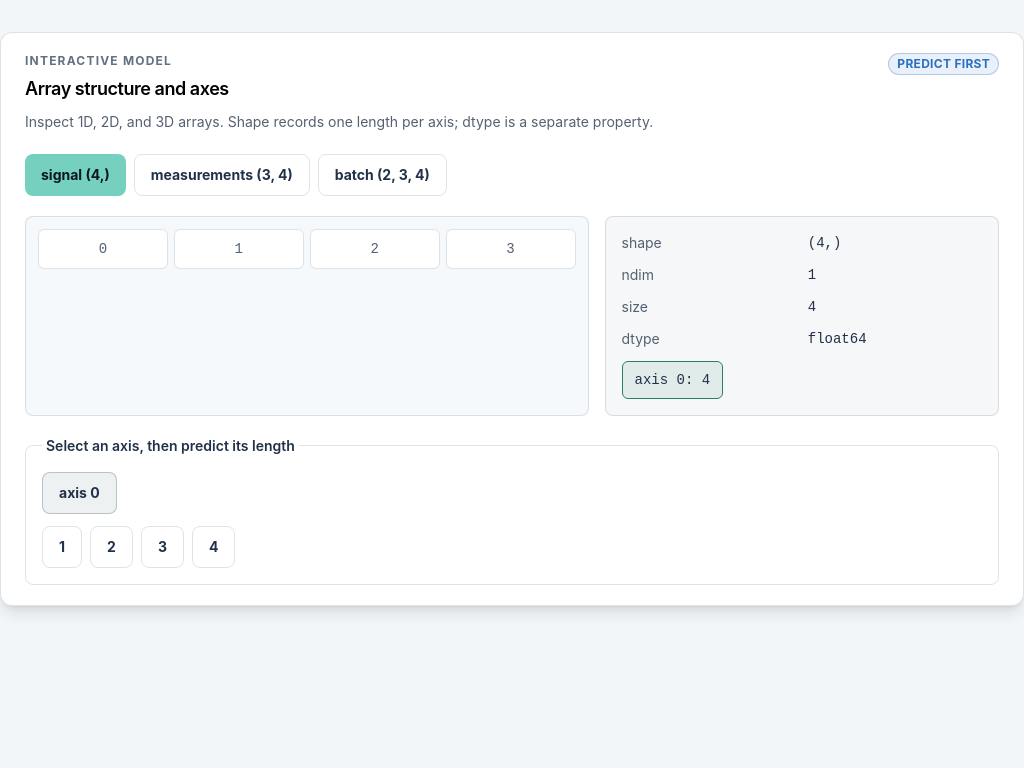
array interactives › connects a selected axis to its length
Click the button "batch (2, 3, 4)" at (382, 175), box [318, 154, 447, 196]
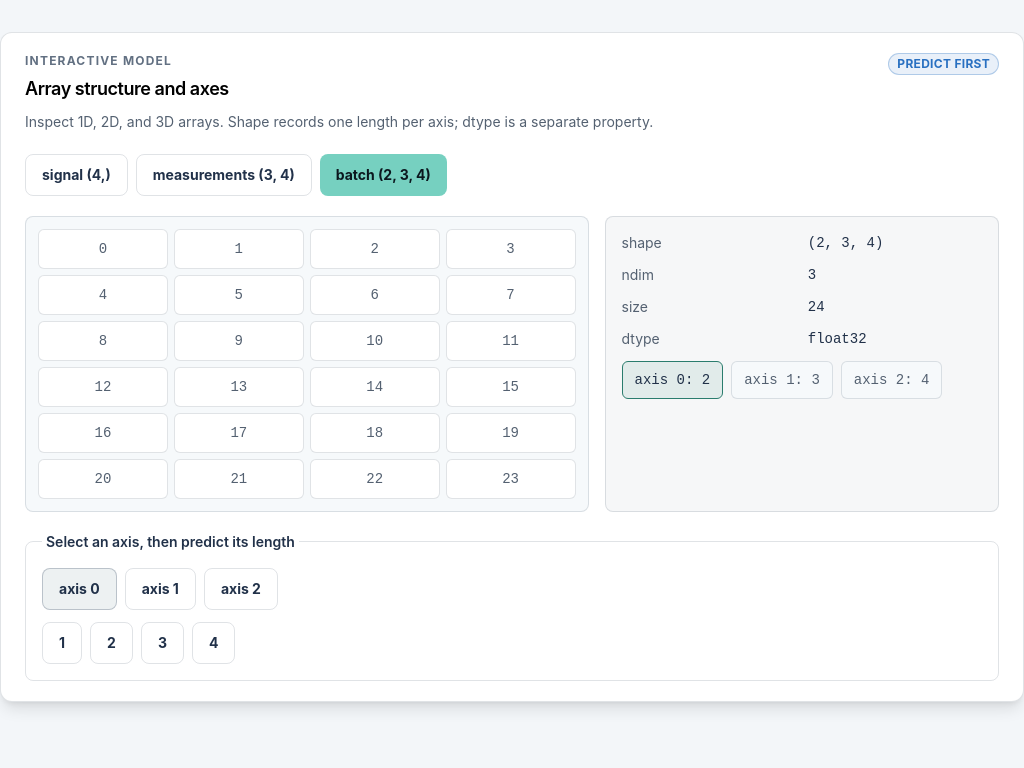
Click the button "axis 1" at (160, 589), box [125, 568, 196, 610]
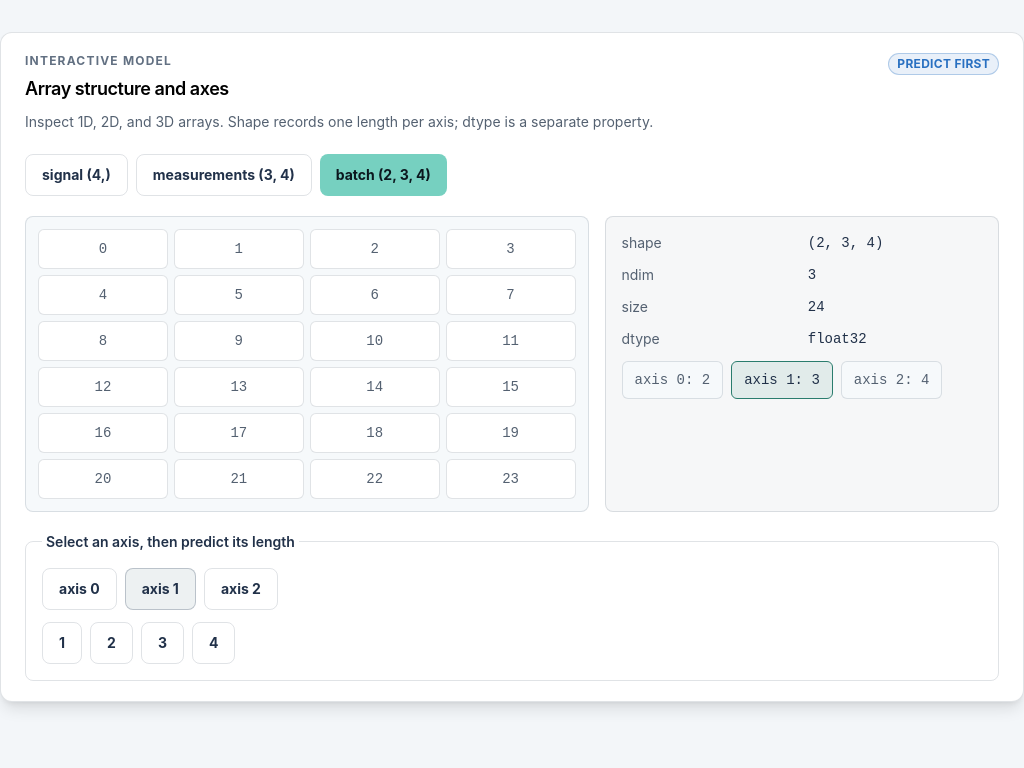
Click the button "3" at (162, 643), box [141, 622, 184, 664]
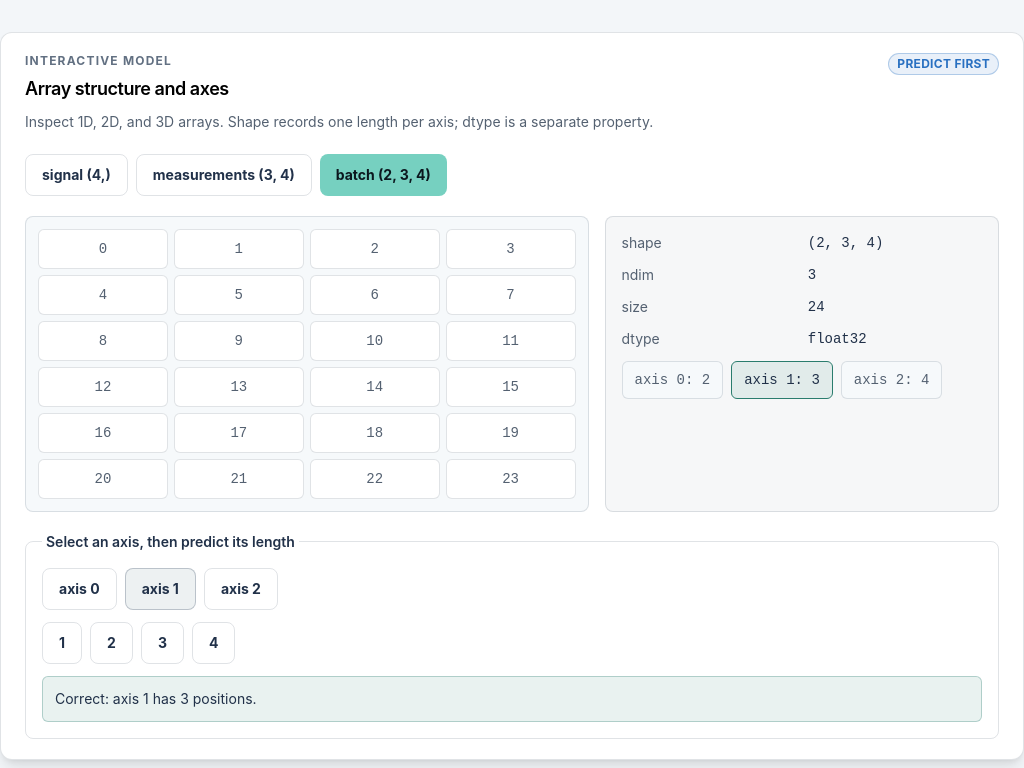
Now the message shows "axis 1 has 3 positions", box [55, 690, 257, 707]
